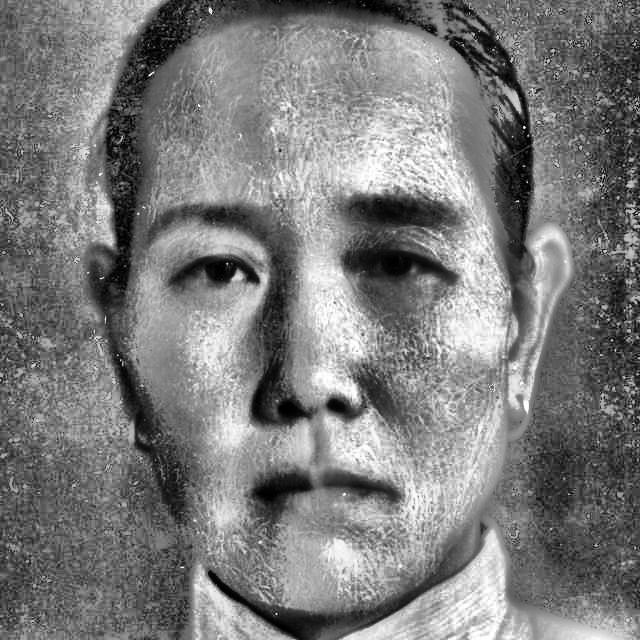sad: (142, 22, 501, 602)
